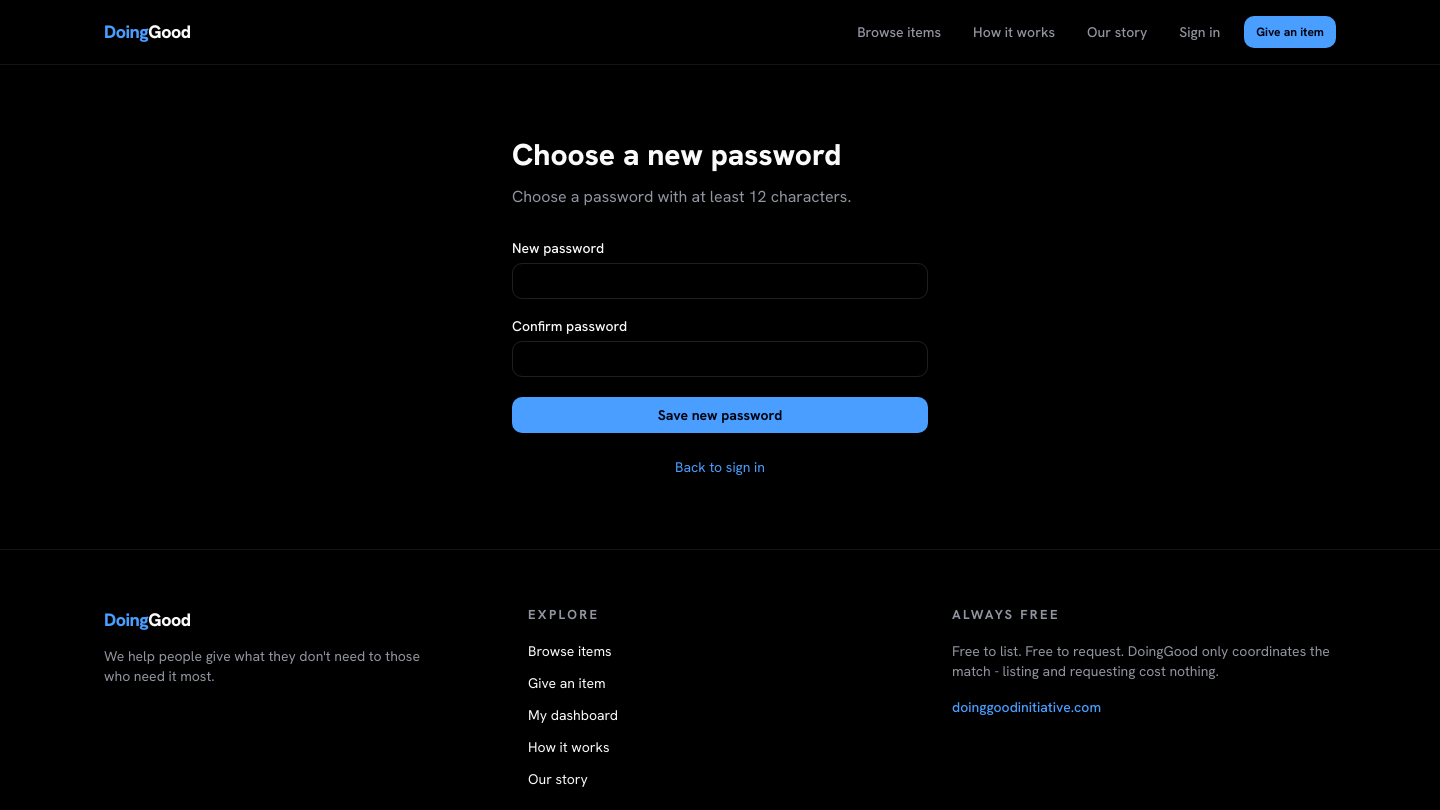
Test case: Connected application routes › accepts a reset link and returns to password sign-in
Type "A different long password!" into the password field labelled "New password" at (720, 281), box [512, 263, 928, 299]
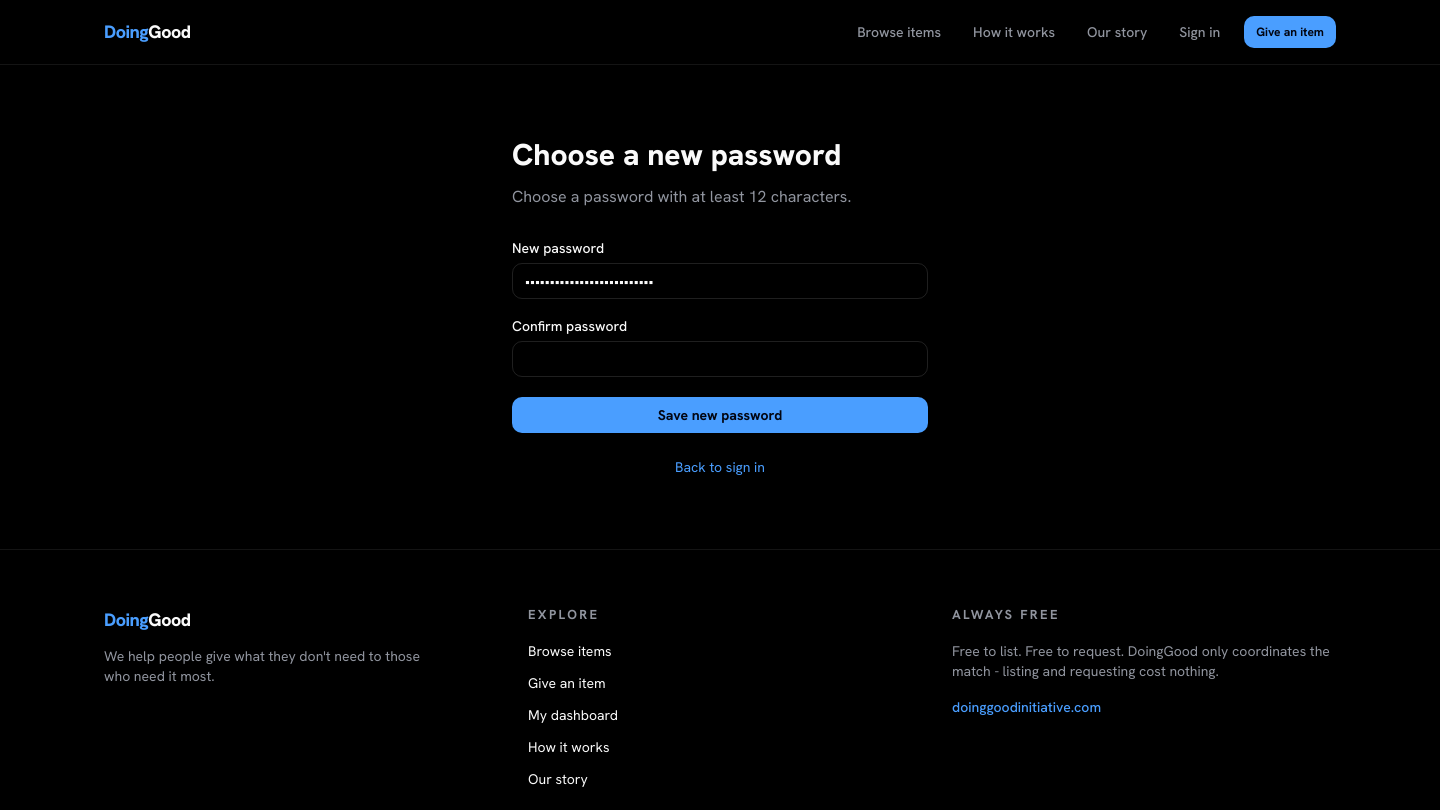
Type "A different long password!" into the password field labelled "Confirm password" at (720, 359), box [512, 341, 928, 377]
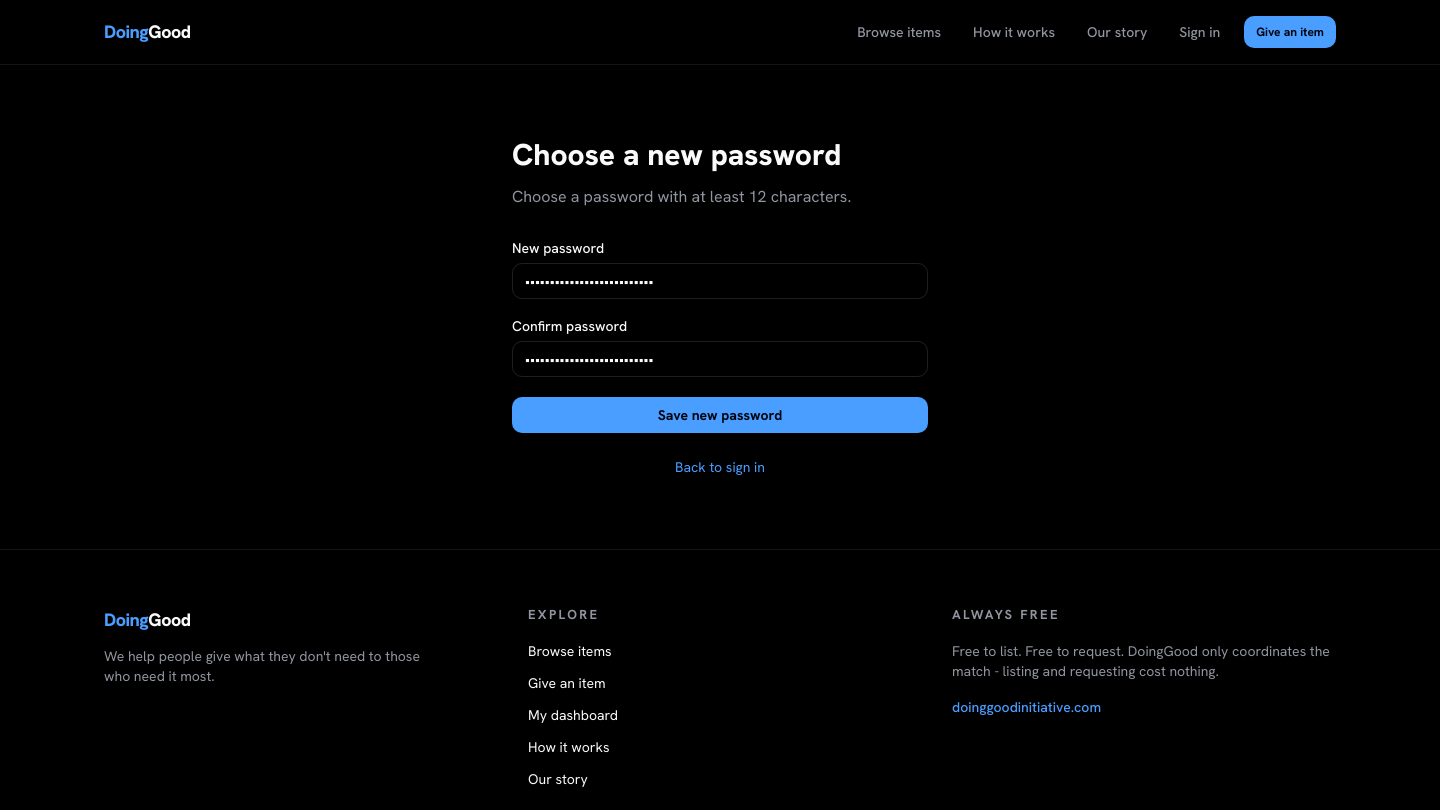
Click the button "Save new password" at (720, 415), box [512, 397, 928, 433]
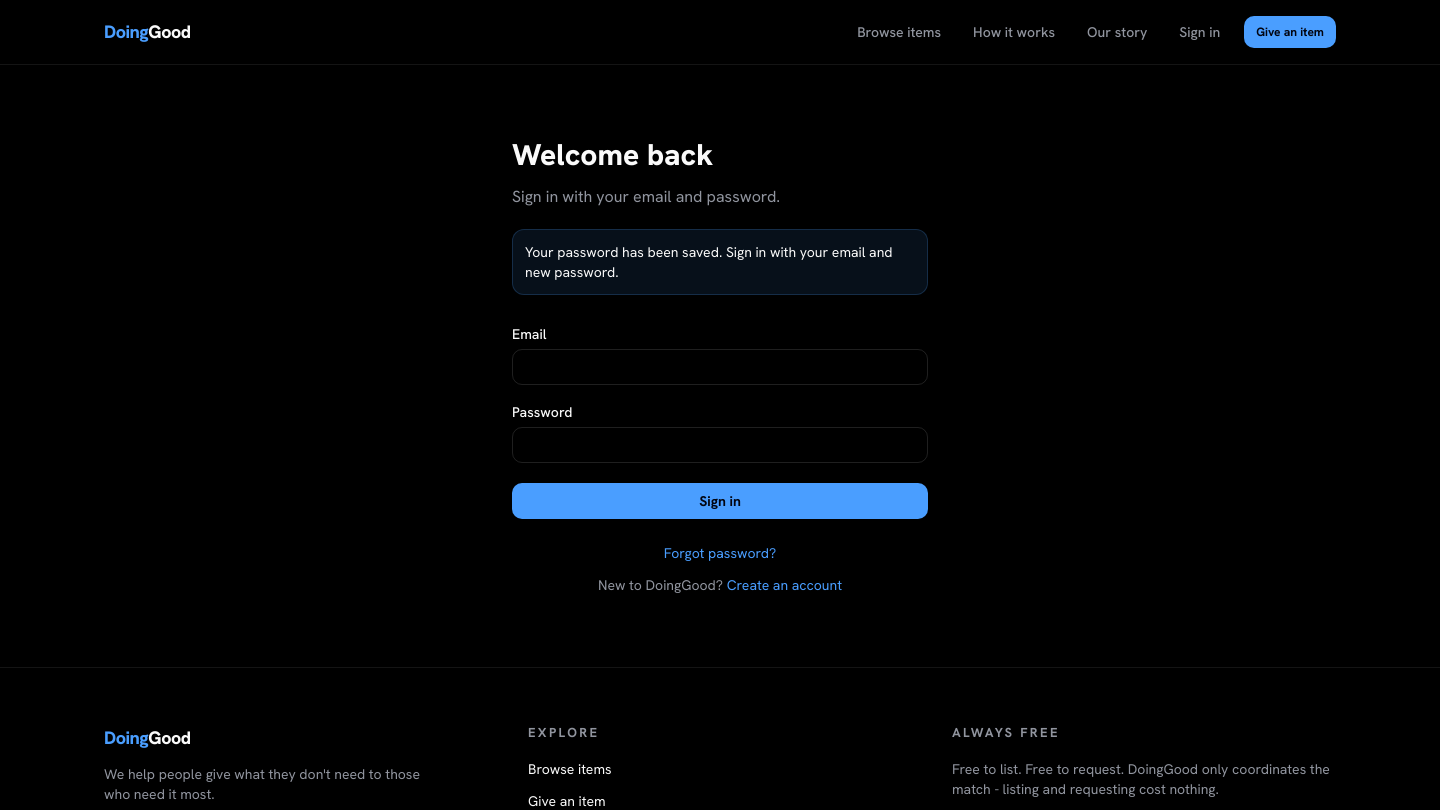
Expected: the heading "Welcome back" is shown, [512, 135, 713, 174]
